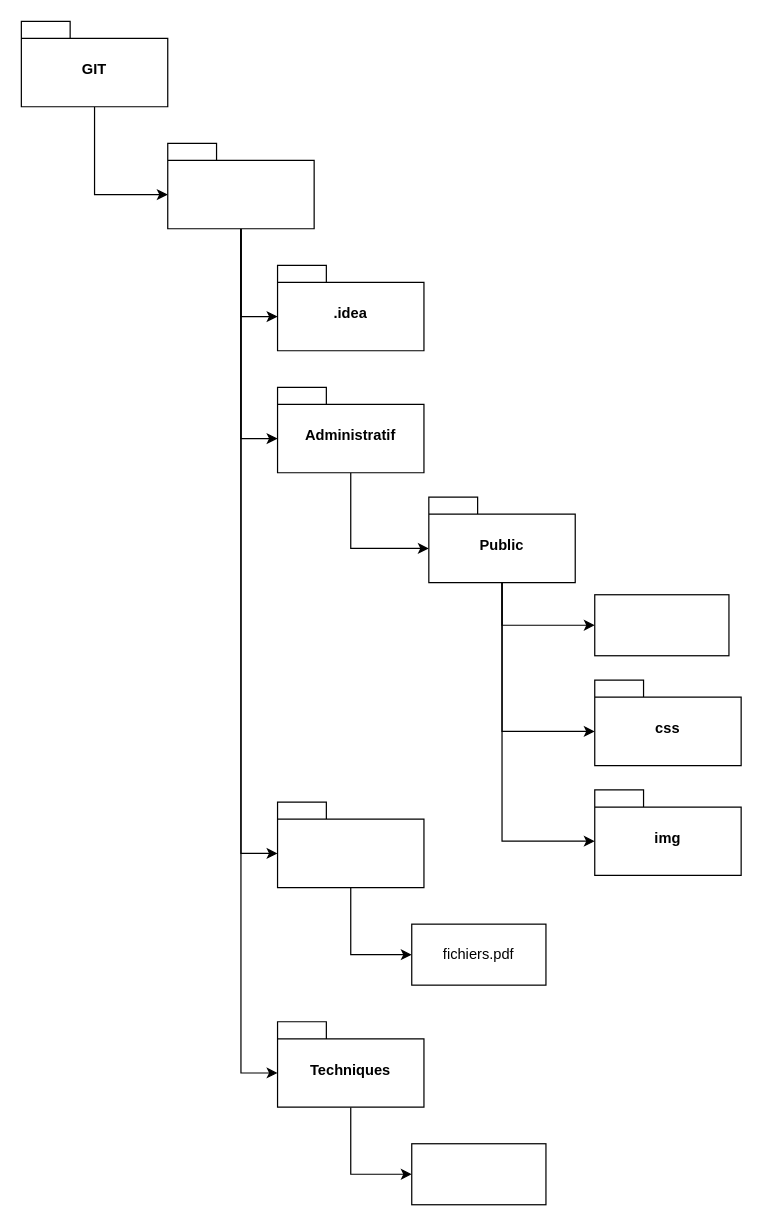
Some shapes in this 763 by 1226 pixel diagram are drawn without their labels. Here are the shapes that lost their labels. From the top down, the centre of each, then its label:
At pixel 240 185: "ERPManagementSI".
At pixel 661 625: "fichiers.html".
At pixel 350 844: "Finances".
At pixel 478 1174: "Fichiers".
